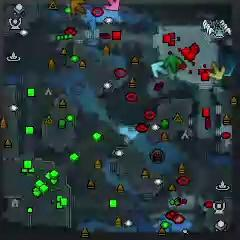x1: (105, 0, 120, 11)
x2: (210, 62, 225, 79)
x3: (151, 62, 168, 77)
x4: (164, 56, 182, 72)
x5: (70, 0, 87, 16)
